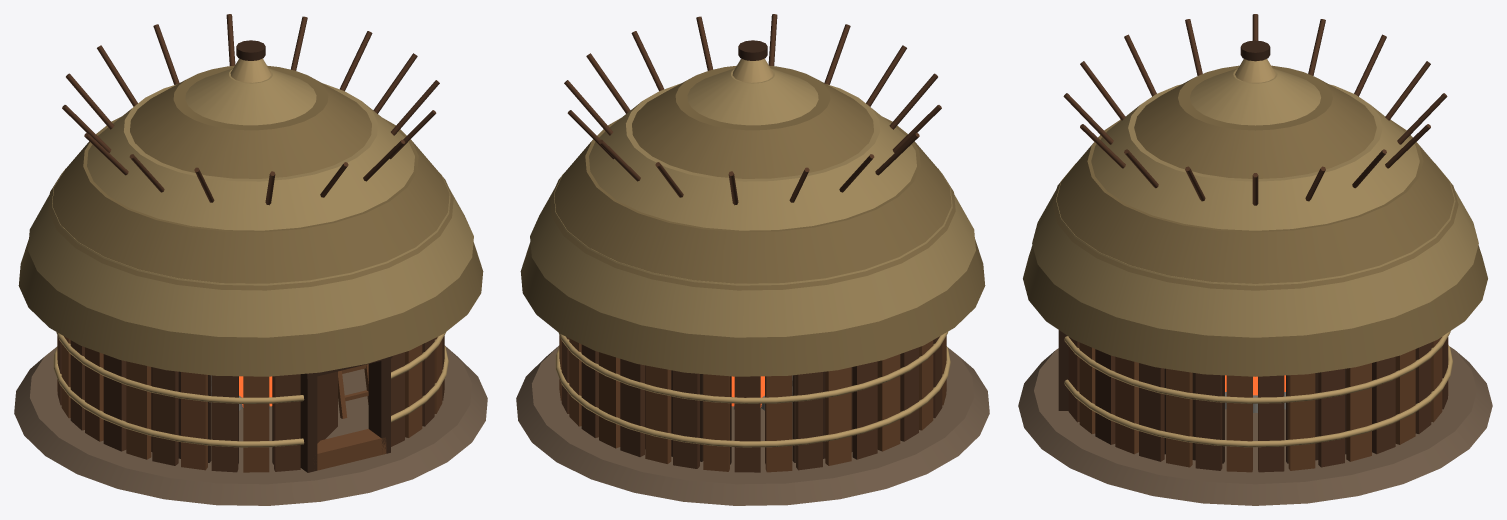
Rendered from honai-papua.glb.
The picture shows the model from 3 angles, left to right: view 1: azimuth 30°, elevation 25°; view 2: azimuth 150°, elevation 25°; view 3: azimuth 270°, elevation 25°; orthographic projection.
Parts seen in each view (by area): view 1: atap_kubah_jerami, dinding_papan, lantai_dasar_tungku, pintu_rendah, tiang_heke; view 2: atap_kubah_jerami, dinding_papan, lantai_dasar_tungku; view 3: atap_kubah_jerami, dinding_papan, lantai_dasar_tungku, pintu_rendah.
Boxes of the visible parts, <box> form: atap_kubah_jerami: <box>18,14,483,376</box>; dinding_papan: <box>53,332,448,472</box>; lantai_dasar_tungku: <box>14,346,487,505</box>; pintu_rendah: <box>300,356,392,472</box>; tiang_heke: <box>338,364,368,418</box>; atap_kubah_jerami: <box>520,14,985,376</box>; dinding_papan: <box>555,332,950,472</box>; lantai_dasar_tungku: <box>516,345,989,505</box>; atap_kubah_jerami: <box>1023,14,1487,376</box>; dinding_papan: <box>1064,331,1452,472</box>; lantai_dasar_tungku: <box>1018,346,1492,505</box>; pintu_rendah: <box>1058,330,1068,410</box>.
Size of the model in its own units: 5.14 by 4.29 by 5.14.
